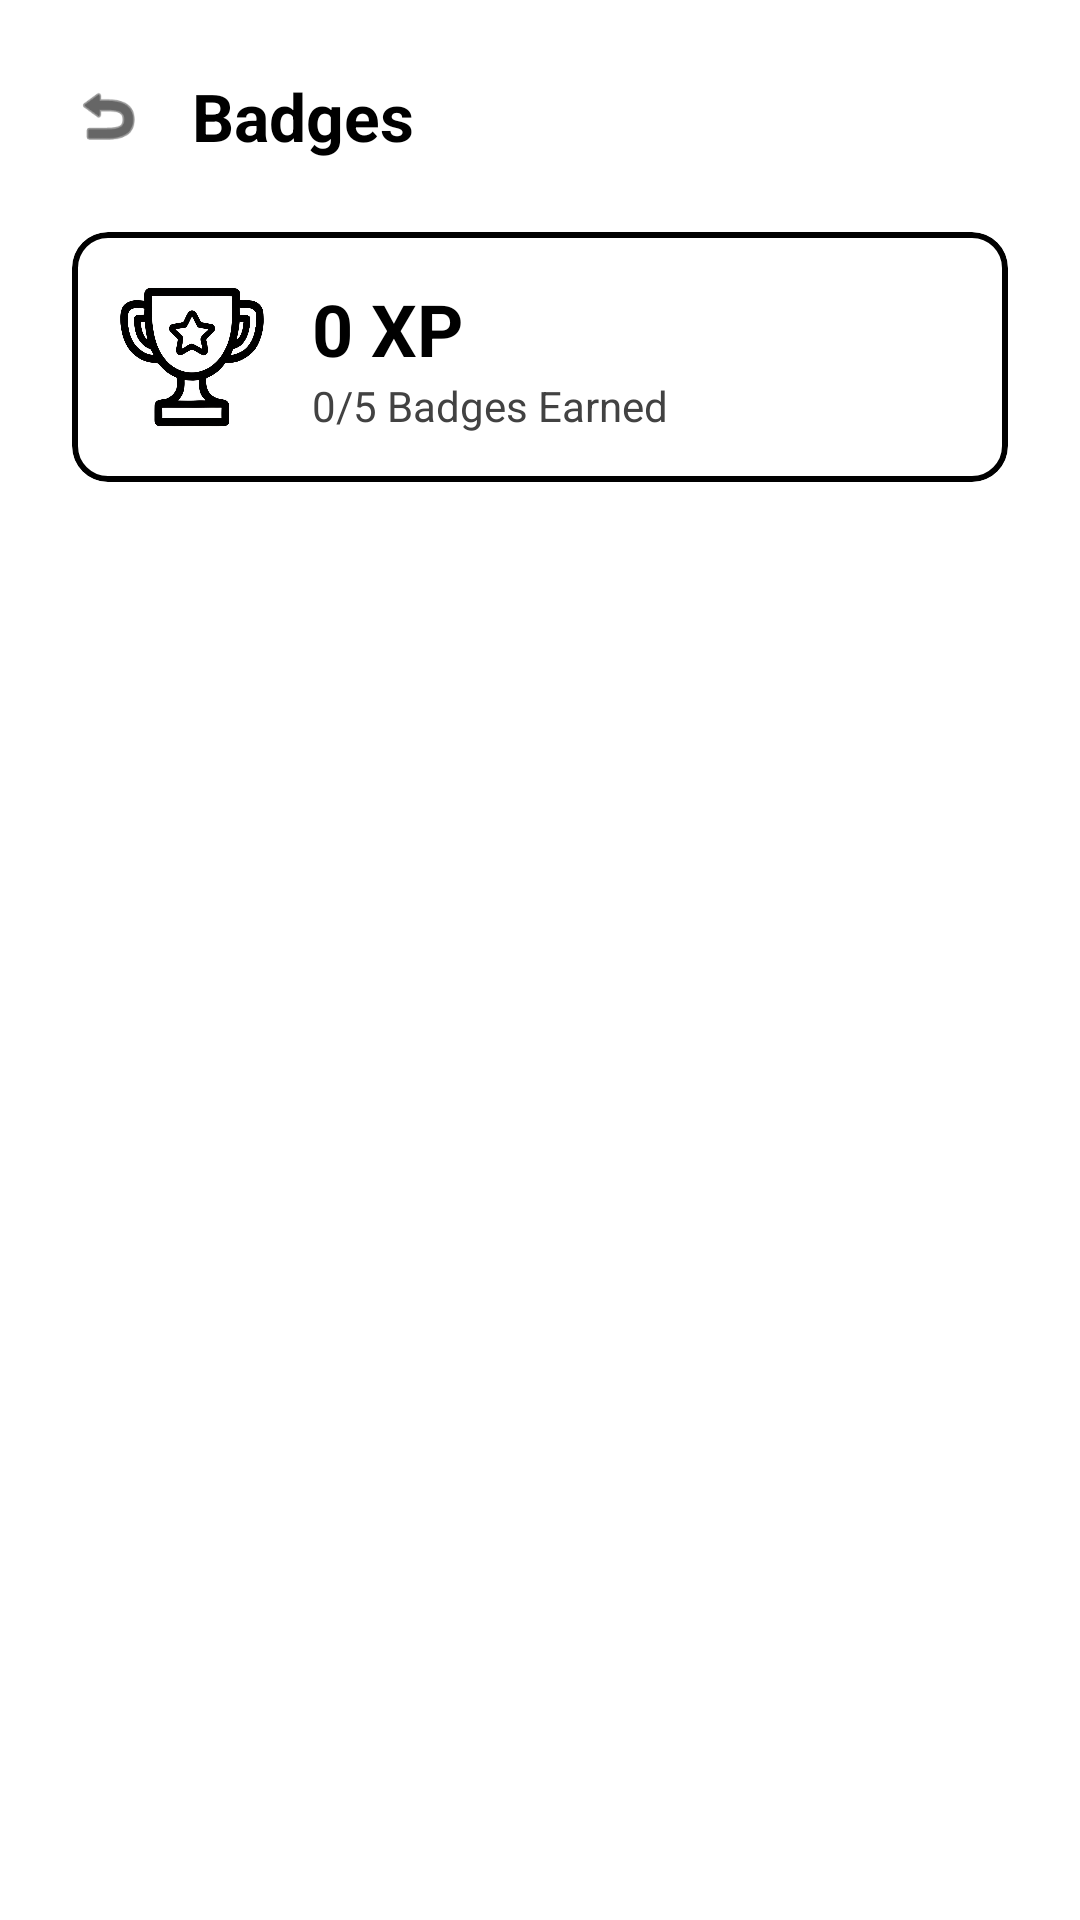

Named icons in this screenshot (1080x1920) and their centers, (x=x, y=y):
achievement trophy: (x=192, y=357)
Back: (x=109, y=116)
